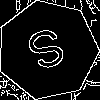S: (22, 25, 74, 81)
